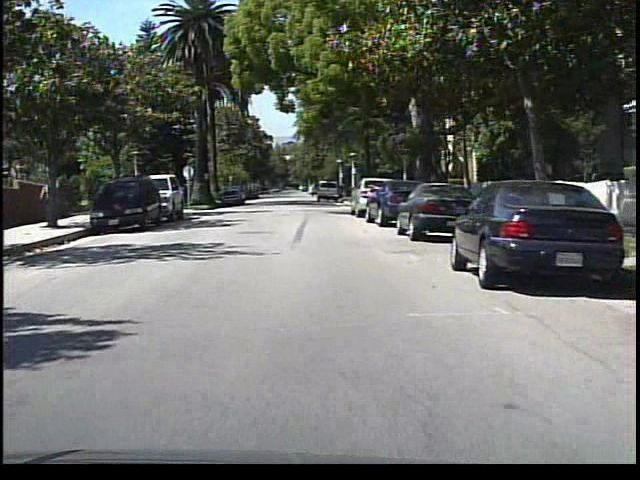person: (37, 176, 56, 225)
